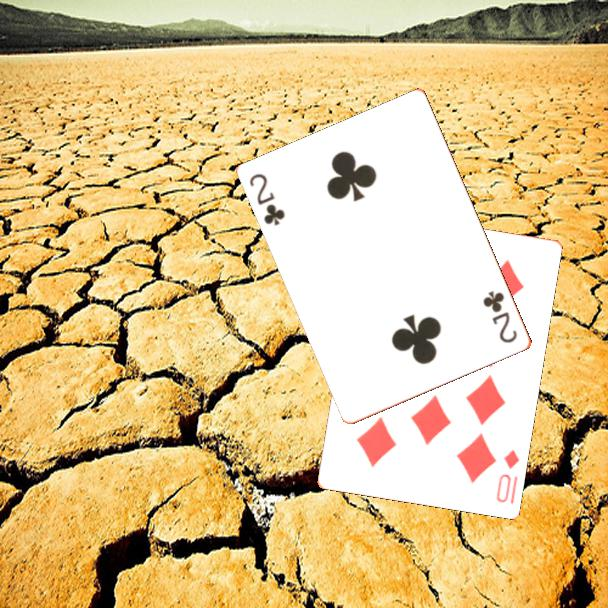c02: (246, 170, 289, 229), (480, 287, 521, 346)
d10: (492, 445, 522, 506)
